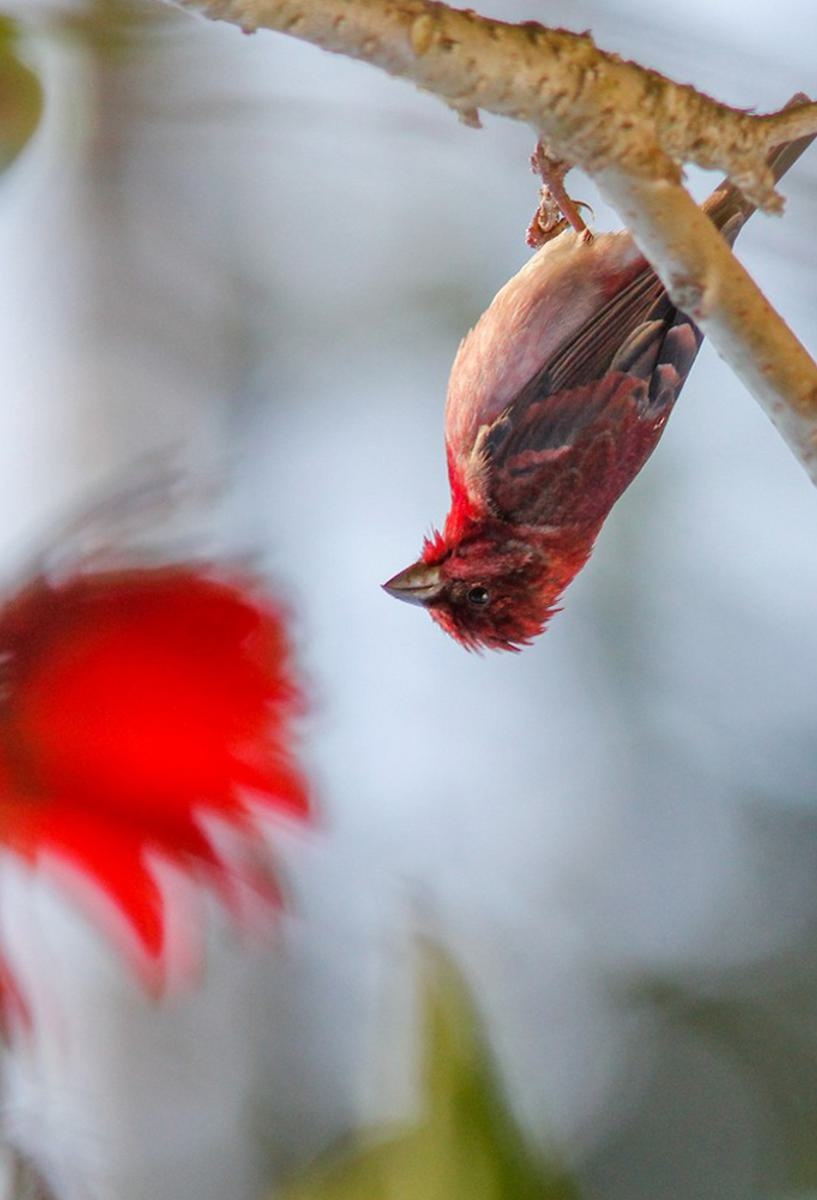rosefinch: (389, 124, 738, 685)
